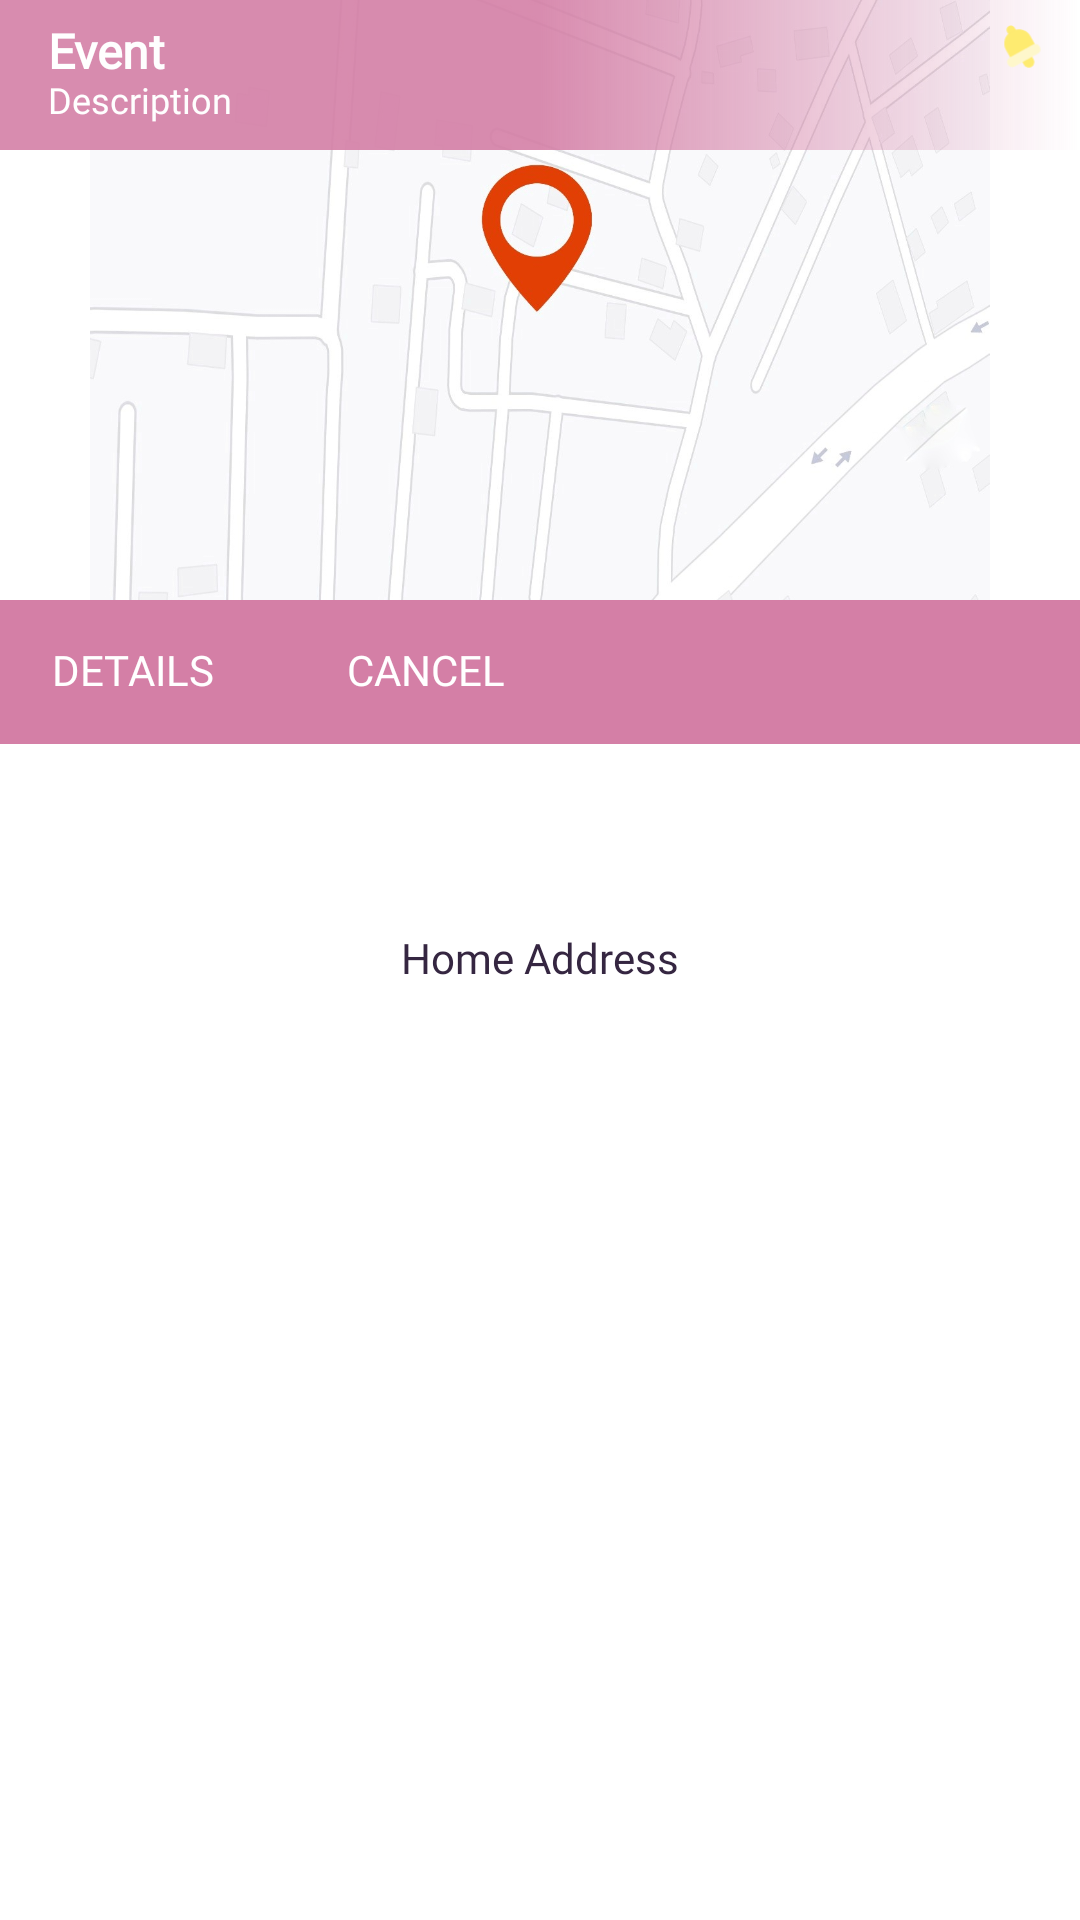

Icon click points for this 1080px×1920px phone screenshot, format [x,y]:
bell: [1022,46]
